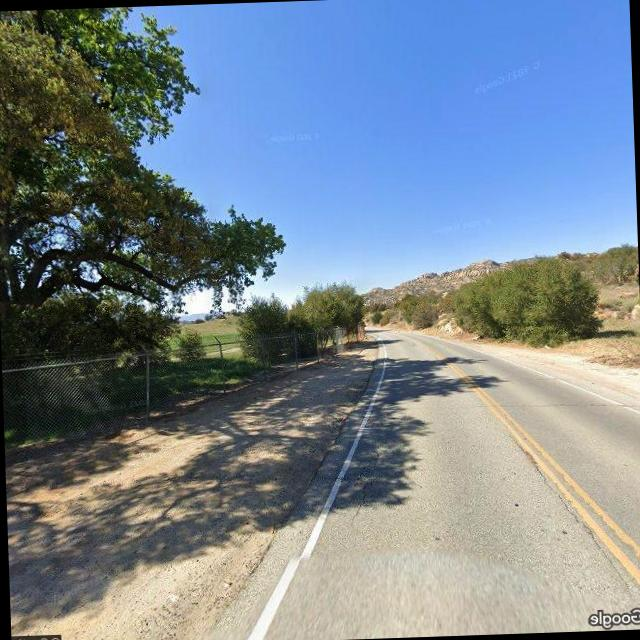pothole: (508, 418, 634, 592)
